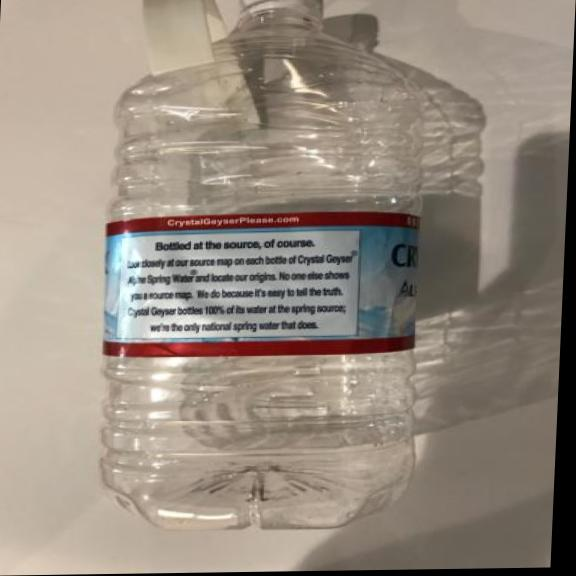Plastik: (93, 0, 439, 536)
